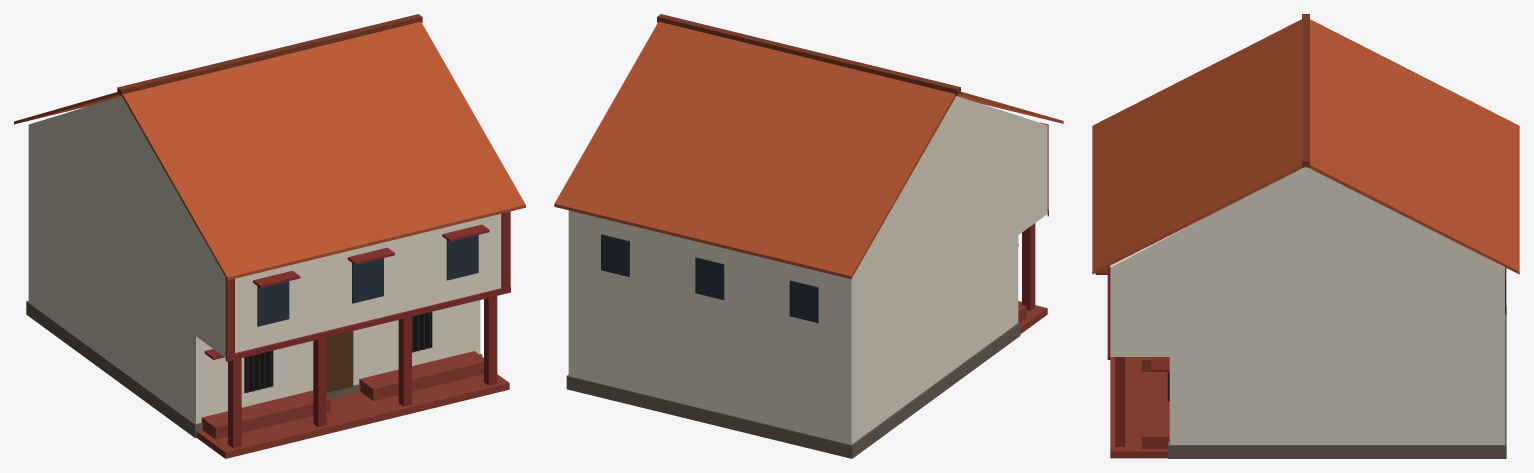
Rendered from bld_ot_house_05.glb.
The picture shows the model from 3 angles, left to right: view 1: azimuth 30°, elevation 25°; view 2: azimuth 150°, elevation 25°; view 3: azimuth 270°, elevation 25°; orthographic projection.
Visible parts, largest first — view 1: bld_ot_house_05; view 2: bld_ot_house_05; view 3: bld_ot_house_05.
Boxes of the visible parts, bbox=[...] form: bld_ot_house_05: bbox=[14, 14, 525, 458]; bld_ot_house_05: bbox=[554, 14, 1063, 458]; bld_ot_house_05: bbox=[1092, 14, 1519, 458].
Size of what is drawn, in the model's own units: 10.6 by 10.11 by 13.
